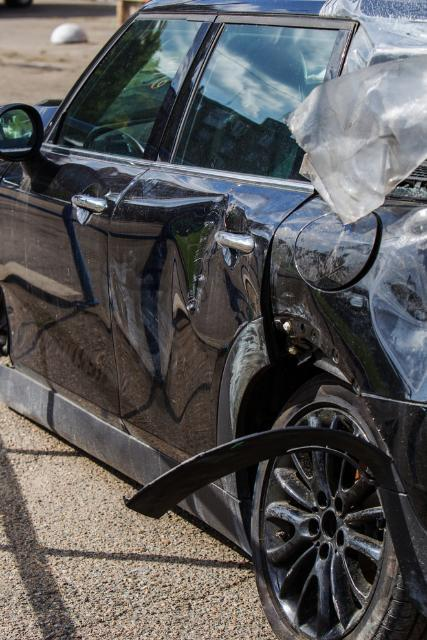Door: (80, 172, 289, 471)
Fender: (275, 185, 427, 599)
